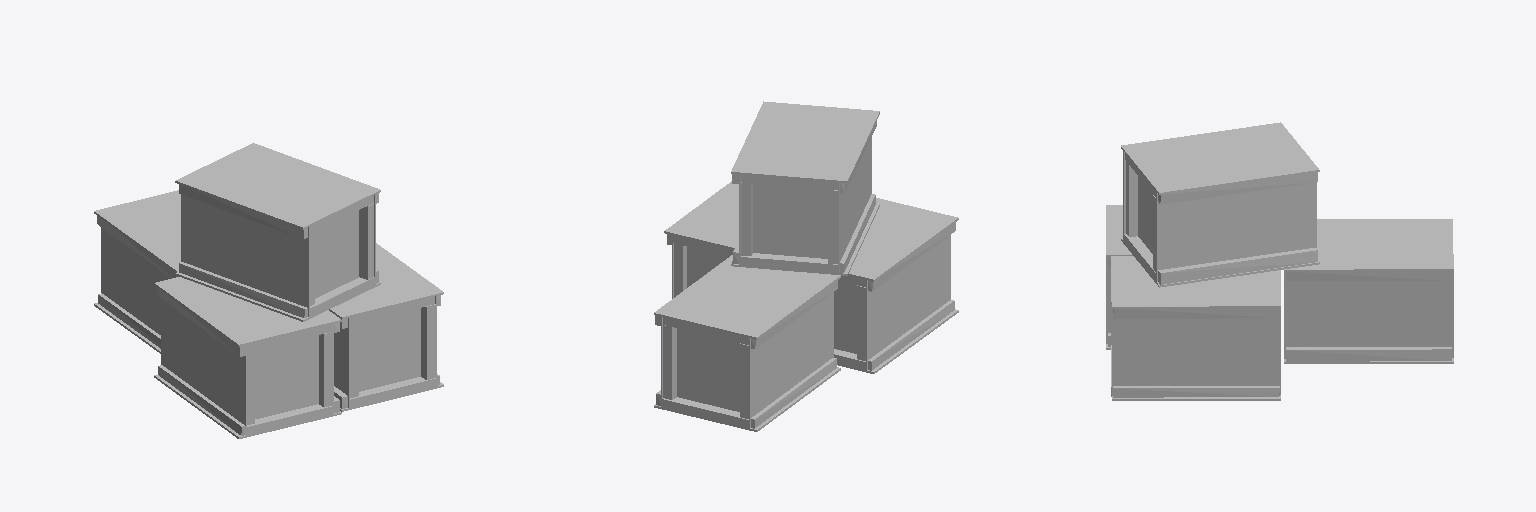
The model's file is Joined_box_d.obj.
3 views of the same model, side by side, from view 1: azimuth 30°, elevation 25°; view 2: azimuth 150°, elevation 25°; view 3: azimuth 270°, elevation 25° (orthographic).
Visible parts, largest first — view 1: Joined_Box_d_LOD0_Cube.017; view 2: Joined_Box_d_LOD0_Cube.017; view 3: Joined_Box_d_LOD0_Cube.017.
Part boxes in pixels (x1,y1,x2,y2): Joined_Box_d_LOD0_Cube.017: (94, 143, 443, 438); Joined_Box_d_LOD0_Cube.017: (654, 101, 958, 431); Joined_Box_d_LOD0_Cube.017: (1106, 122, 1453, 400).
Size of the model in its own units: 1.14 by 0.9892 by 1.65.